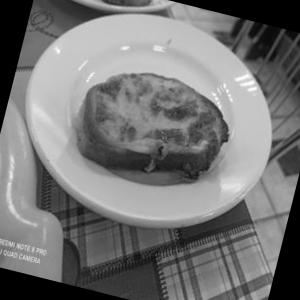cheese_sandwich: (63, 48, 248, 193)
